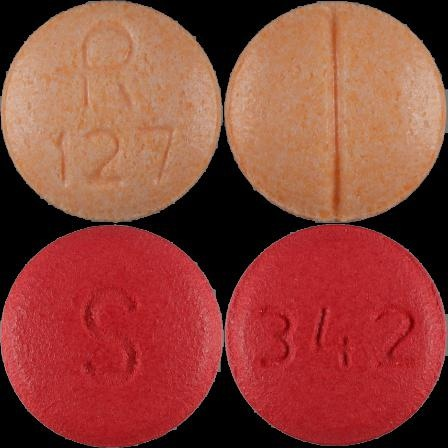55700-286: (0, 0, 224, 224)
